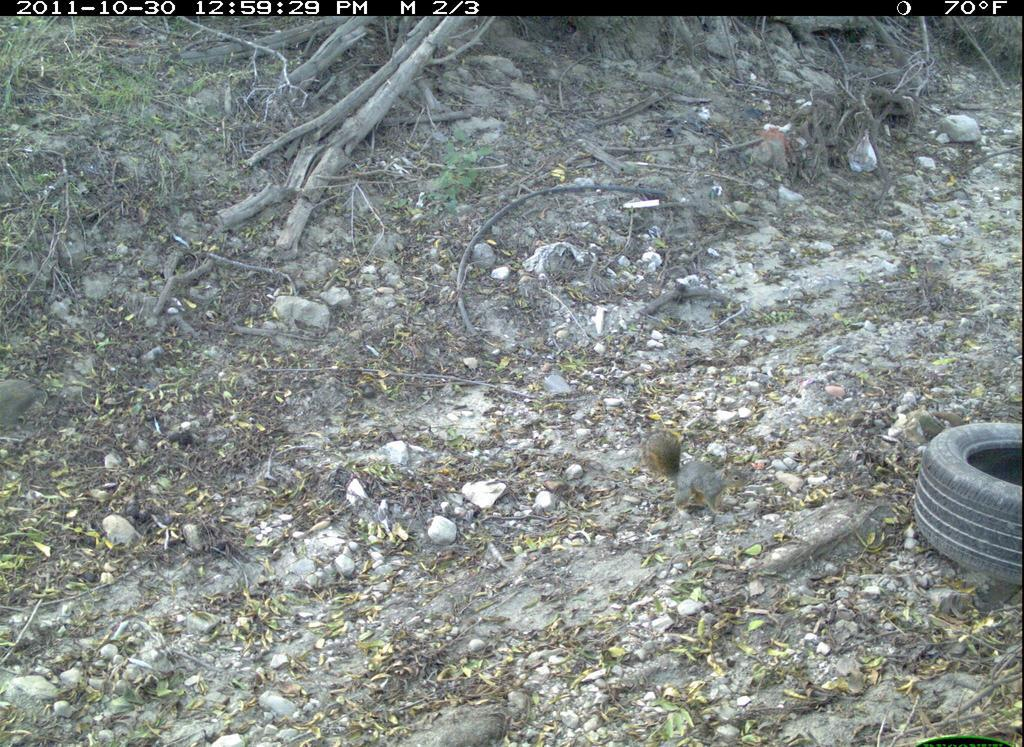squirrel: (644, 428, 749, 521)
